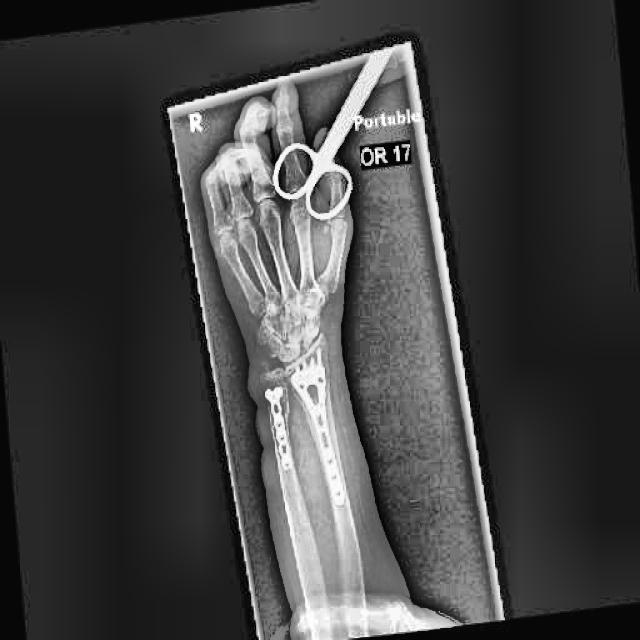fingers positive: (301, 338, 341, 399), (256, 380, 299, 426)
